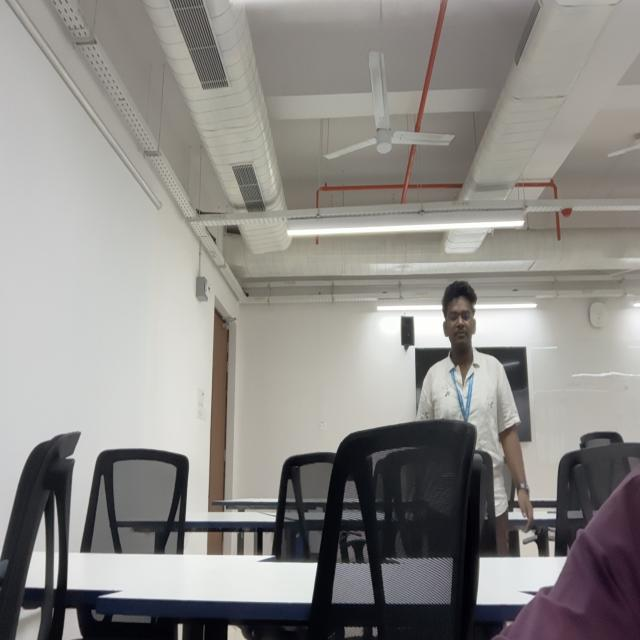sai: (439, 280, 484, 355)
